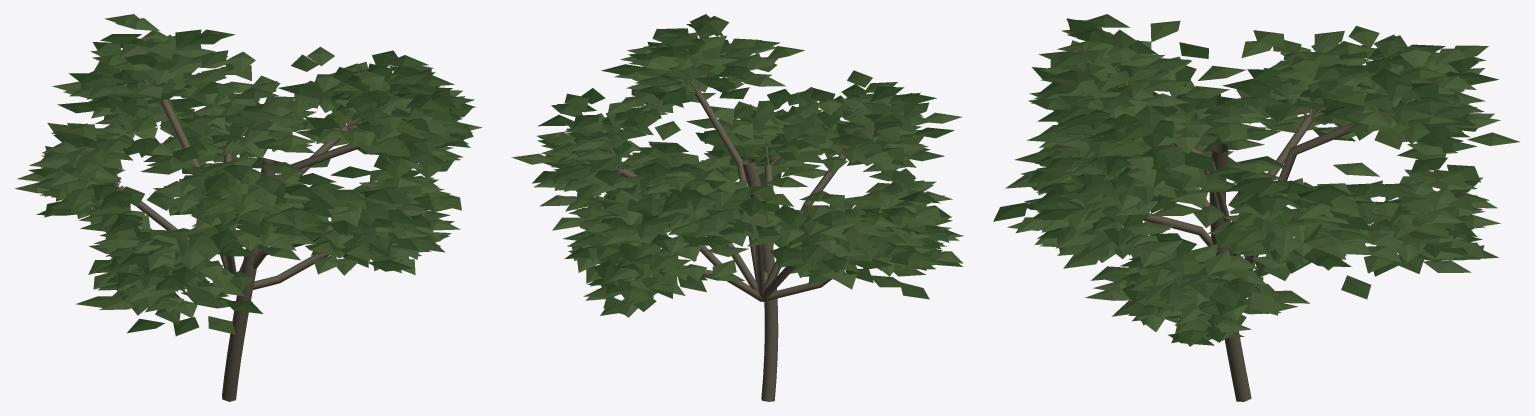
File: prop_tropical_tree.glb
The picture shows the model from 3 angles, left to right: view 1: azimuth 30°, elevation 25°; view 2: azimuth 150°, elevation 25°; view 3: azimuth 270°, elevation 25°; orthographic projection. The views are drawn at different scales.
Parts seen in each view (by area): view 1: directed_leaf_sprays, tapered_wind_trunk; view 2: directed_leaf_sprays, tapered_wind_trunk; view 3: directed_leaf_sprays, tapered_wind_trunk.
Boxes of the visible parts, <box> form: directed_leaf_sprays: <box>15,14,482,336</box>; tapered_wind_trunk: <box>114,80,396,401</box>; directed_leaf_sprays: <box>511,14,963,317</box>; tapered_wind_trunk: <box>604,72,849,401</box>; directed_leaf_sprays: <box>993,14,1519,346</box>; tapered_wind_trunk: <box>1104,65,1381,401</box>.
Bounding box in the file's own units: 13.98 × 10.79 × 14.28.
